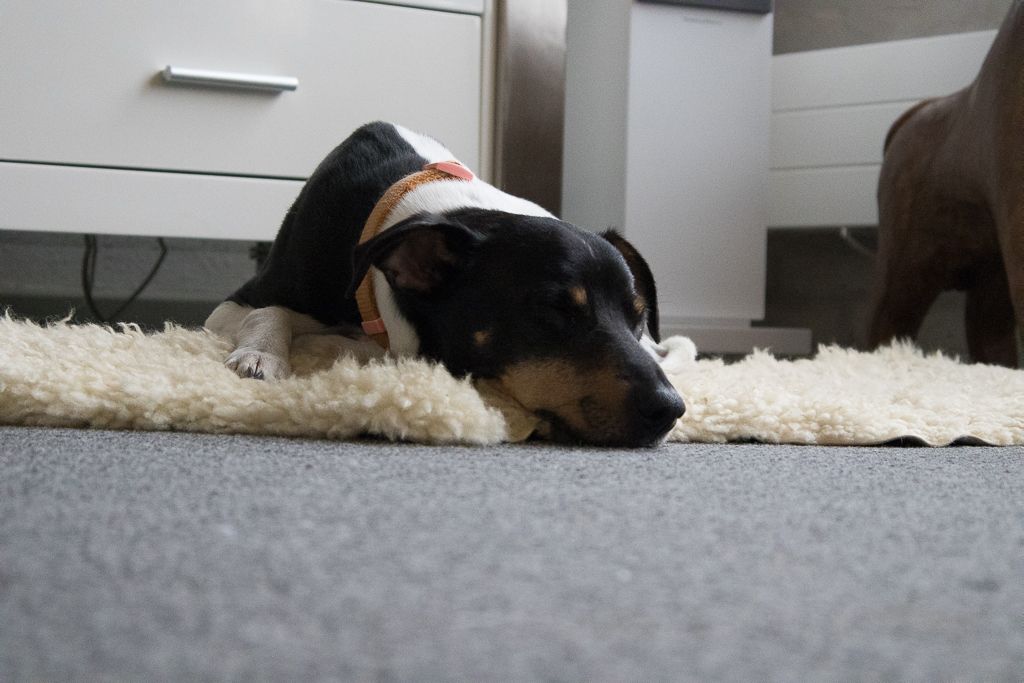Cattle: (844, 0, 1024, 376)
Dog: (194, 105, 715, 475)
